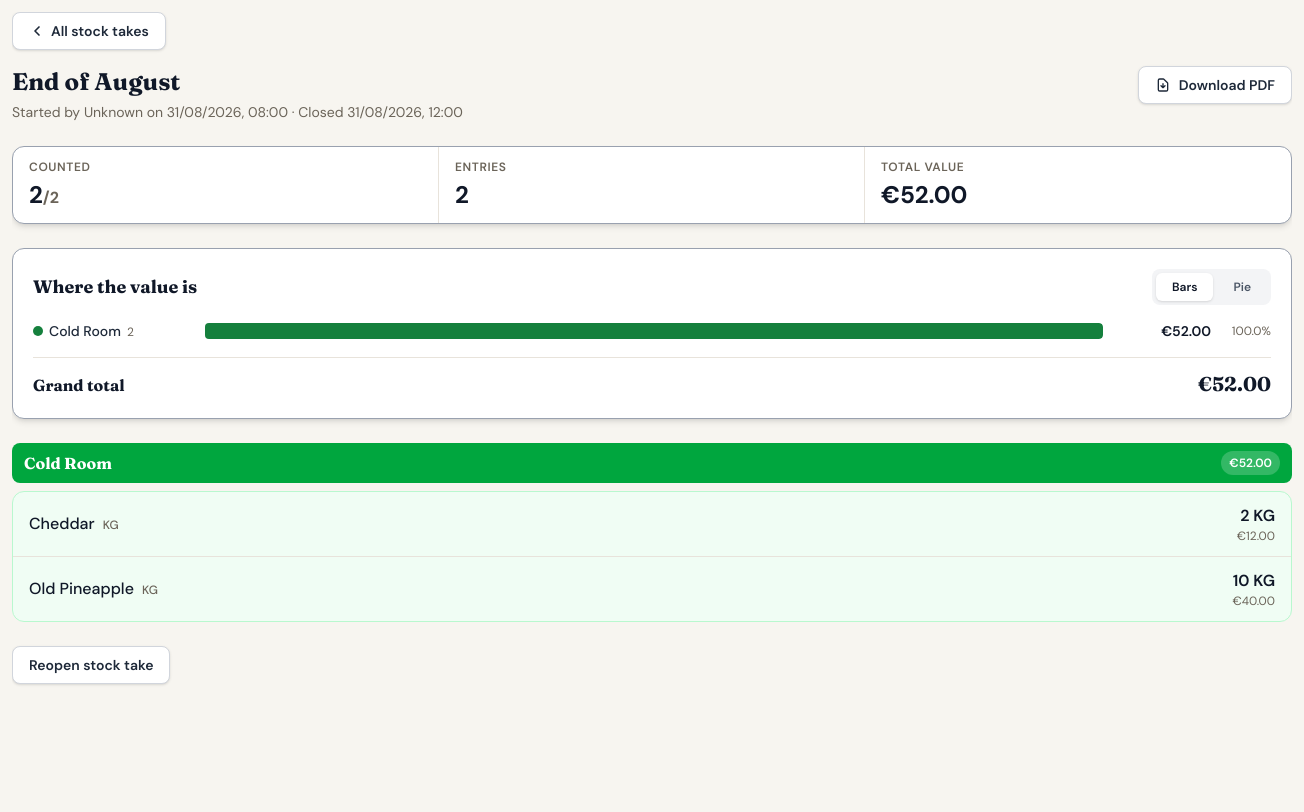
Scenario: downloading the PDF › says so when it cannot be made
Click the button "Download PDF".
click(1215, 85)  # box x1=1138 y1=66 x2=1292 y2=104
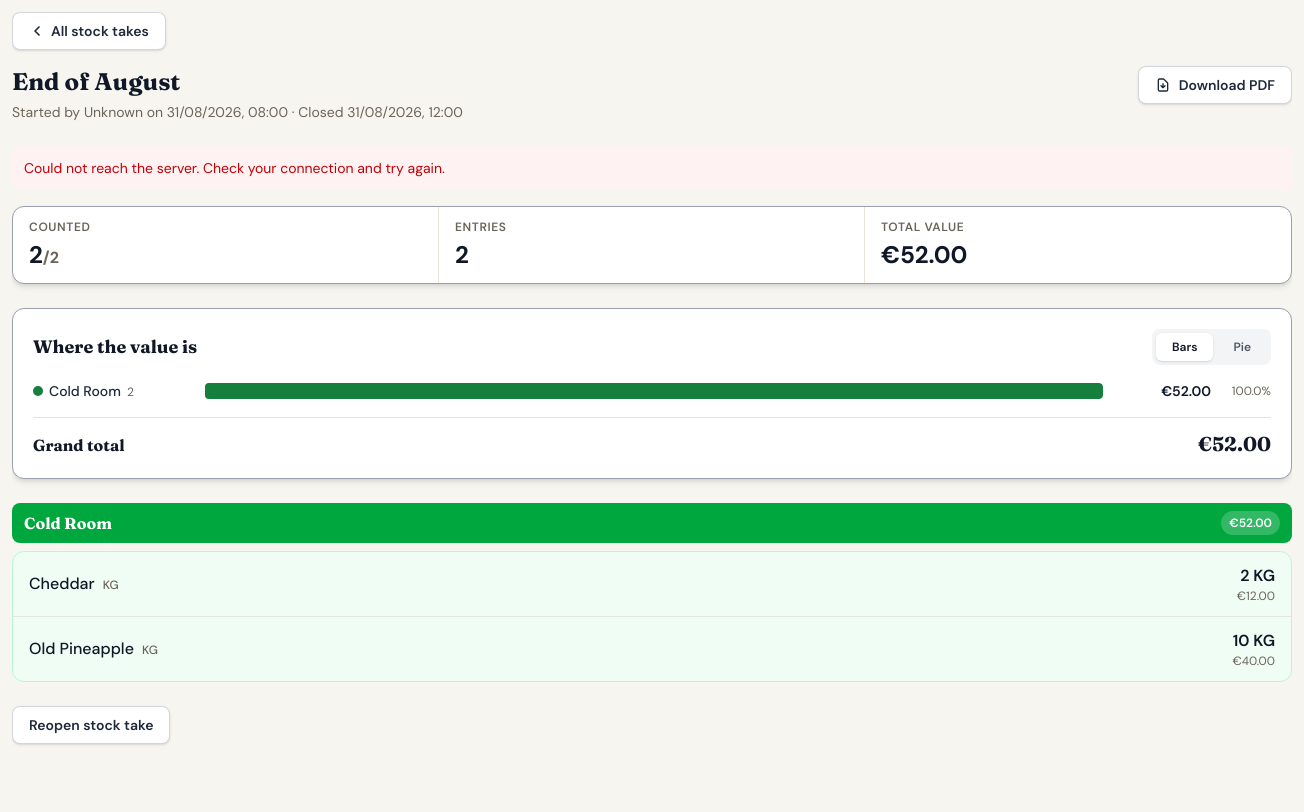
Expected: the message "Could not reach the server. Check your connection and try again." is shown, x1=12 y1=146 x2=1292 y2=190
